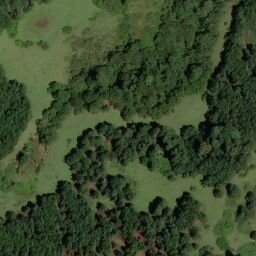forest: (97, 123, 256, 166), (1, 220, 190, 256), (109, 51, 210, 94), (158, 1, 212, 50), (204, 80, 256, 123), (71, 77, 109, 112), (37, 193, 86, 219), (224, 41, 256, 79), (1, 93, 31, 131), (109, 94, 174, 109), (106, 174, 136, 203), (232, 5, 256, 36), (50, 83, 72, 114), (63, 150, 103, 165), (1, 1, 17, 28), (1, 80, 25, 93), (7, 131, 17, 145), (1, 132, 6, 157), (7, 145, 14, 153)
